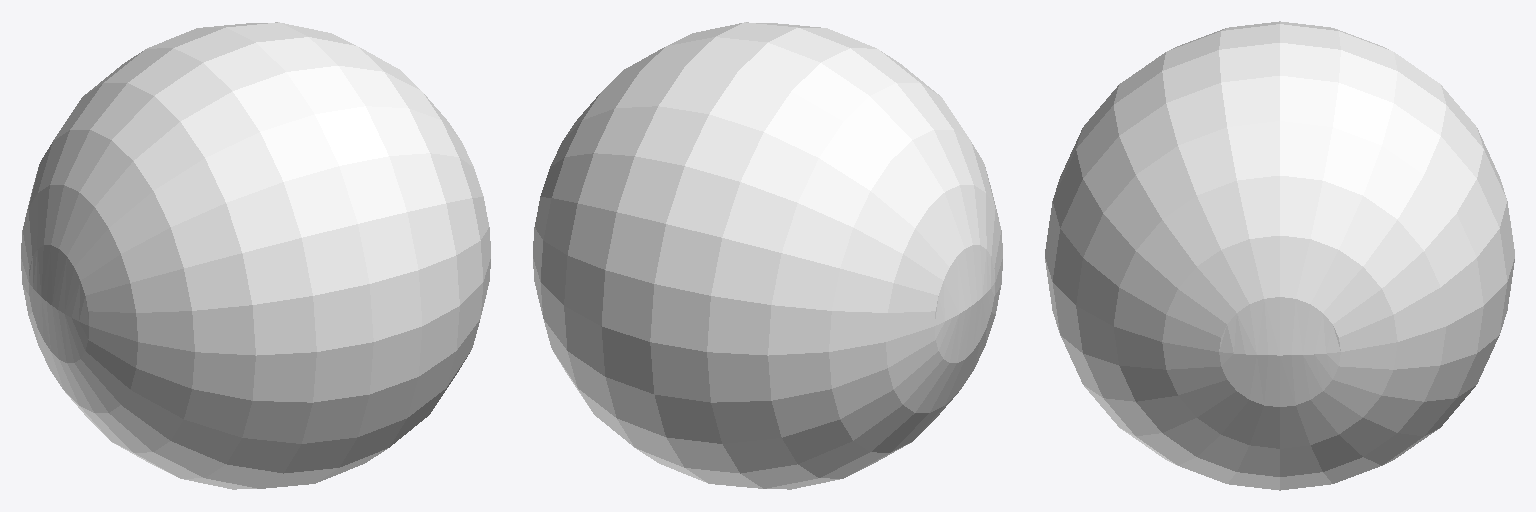
File: basketball.obj
3 views of the same model, side by side, from view 1: azimuth 30°, elevation 25°; view 2: azimuth 150°, elevation 25°; view 3: azimuth 270°, elevation 25° (orthographic).
Parts seen in each view (by area): view 1: obj1; view 2: obj1; view 3: obj1.
Part boxes in pixels (x1,y1,x2,y2): obj1: (21,22,490,489); obj1: (533,22,1002,489); obj1: (1045,21,1514,490).
Bounding box in the file's own units: 75.6 × 75.6 × 75.6.